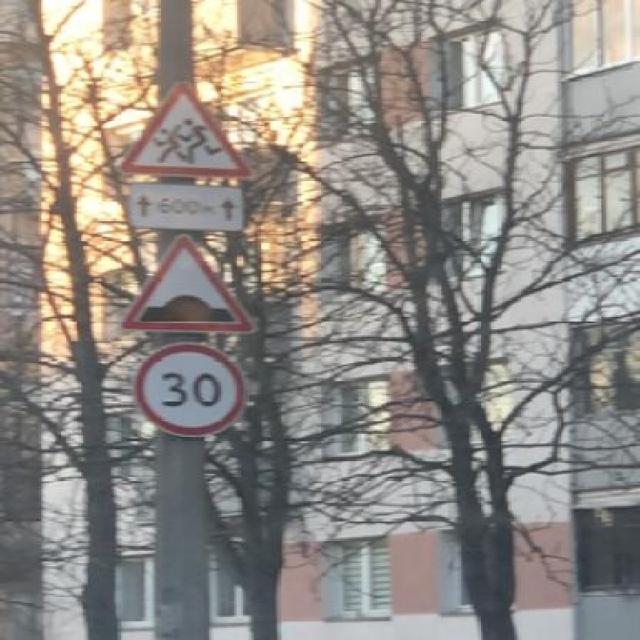forb_speed_over_30: (135, 340, 248, 438)
